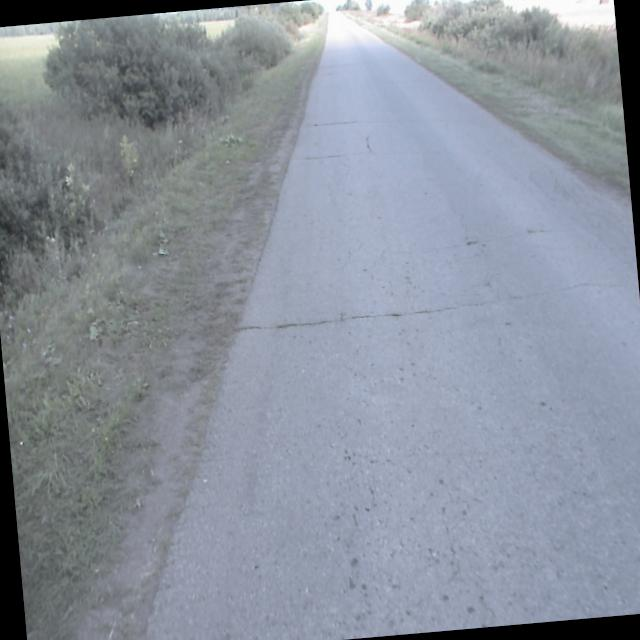road: (143, 11, 640, 640)
